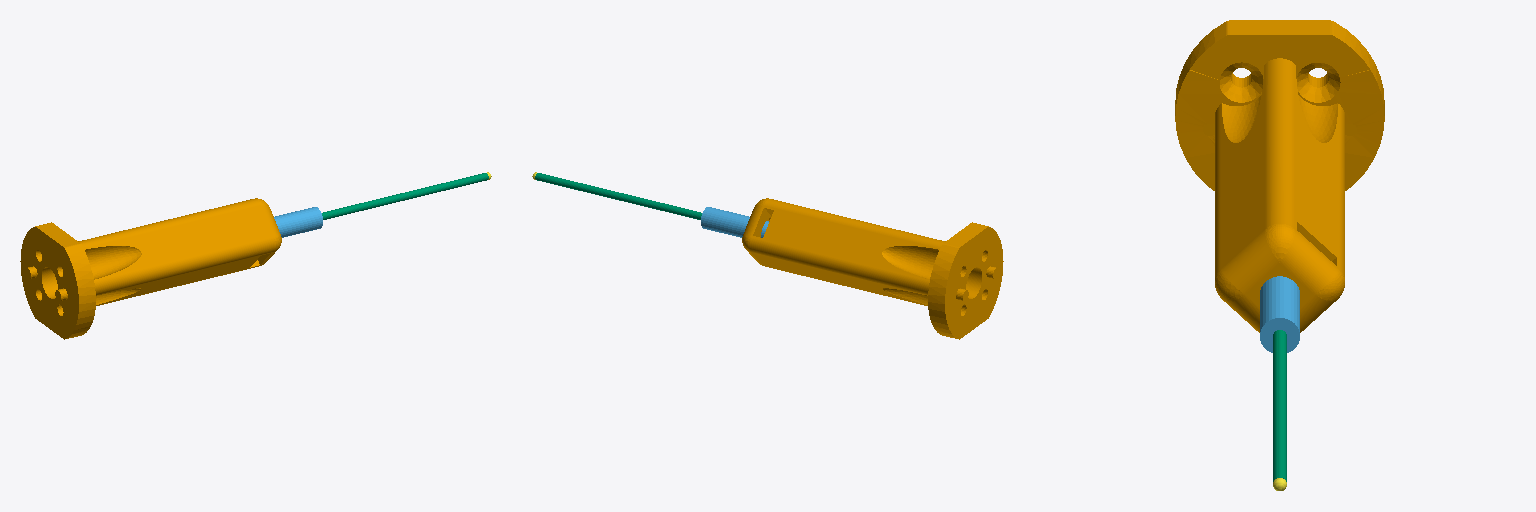
URDF robot description (meca500_needle_holder):
<?xml version="1.0" ?>
<!-- =================================================================================== -->
<!-- |    This document was autogenerated by xacro from meca_holder.urdf.xacro         | -->
<!-- |    EDITING THIS FILE BY HAND IS NOT RECOMMENDED                                 | -->
<!-- =================================================================================== -->
<robot name="meca500_needle_holder">
  <!-- Base Link: Needle Holder -->
  <link name="needle_holder">
    <visual>
      <origin rpy="0 0 0" xyz="0 0 0"/>
      <geometry>
        <mesh filename="package://mecademic_description/meshes/meca500_needle_holder_001_scaled.dae"/>
      </geometry>
    </visual>
    <collision>
      <origin rpy="0 0 0" xyz="0 0 0"/>
      <geometry>
        <mesh filename="package://mecademic_description/meshes/meca500_needle_holder_001_scaled.stl"/>
      </geometry>
    </collision>
  </link>
  <!-- Child Link: Needle Holder Pin 
    <link name="needle_holder_pin">
        <visual>
            <origin rpy="0 0 0" xyz="0 0 0"/>
            <geometry>
                <mesh filename="package://mecademic_description/meshes/meca500_needle_holder_pin_001_scaled.dae"/>
            </geometry>
        </visual>
        <collision>
            <origin rpy="0 0 0" xyz="0 0 0"/>
            <geometry>
                <mesh filename="package://mecademic_description/meshes/meca500_needle_holder_pin_001_scaled.stl" />
            </geometry>
        </collision>
    </link>

    Joint: Connecting the Needle Holder to the Pin
    <joint name="holder_to_pin" type="fixed">
        <parent link="needle_holder"/>
        <child link="needle_holder_pin"/>
        <origin xyz="0 0 0" rpy="0 0 0"/>
    </joint> -->
  <!-- Joint: Connecting the Needle to the Needle Holder Pin -->
  <joint name="holder_to_base" type="fixed">
    <parent link="needle_holder"/>
    <child link="needle_base"/>
    <origin rpy="0 0 0" xyz="-0.005 0 0"/>
  </joint>
  <!-- New Link: Base Needle -->
  <link name="needle_base">
    <visual>
      <origin rpy="0 0 0" xyz="0 0 0"/>
      <geometry>
        <mesh filename="package://mecademic_description/meshes/needle_base.dae"/>
      </geometry>
    </visual>
    <collision>
      <origin rpy="0 0 0" xyz="0 0 0"/>
      <geometry>
        <mesh filename="package://mecademic_description/meshes/needle_base.stl"/>
      </geometry>
    </collision>
  </link>
  <!-- Joint: Connecting the Needle to the Needle Holder Pin -->
  <joint name="base_to_needle" type="fixed">
    <parent link="needle_base"/>
    <child link="needle"/>
    <origin rpy="0 0 0" xyz="0 0 0"/>
  </joint>
  <!-- New Link: Needle -->
  <link name="needle">
    <visual>
      <origin rpy="0 0 0" xyz="0 0 0"/>
      <geometry>
        <mesh filename="package://mecademic_description/meshes/needle.dae"/>
      </geometry>
    </visual>
    <collision>
      <origin rpy="0 0 0" xyz="0 0 0"/>
      <geometry>
        <mesh filename="package://mecademic_description/meshes/needle.stl"/>
      </geometry>
    </collision>
  </link>
  <!-- Joint: Connecting the Needle to the Needle Tip -->
  <joint name="needle_to_tip" type="fixed">
    <parent link="needle"/>
    <child link="needle_tip"/>
    <origin rpy="0 0 0" xyz="0.132 0 0"/>
  </joint>
  <link name="needle_tip">
    <visual>
      <origin rpy="0 0 0" xyz="0 0 0"/>
      <geometry>
        <sphere radius=".001"/>
      </geometry>
    </visual>
    <collision>
      <origin rpy="0 0 0" xyz="0 0 0"/>
      <geometry>
        <sphere radius=".001"/>
      </geometry>
    </collision>
  </link>
  <!-- New Link: Sphere (Needle Tip)
    <link name="needle_tip_tcp"/>
     <joint name="needle_tip_tcp_joint" type="fixed">
        <parent link="needle_tip"/>
        <child link="needle_tip_tcp"/>
        <origin xyz=".132 0 0" rpy="0 0 0"/>
    </joint> -->
</robot>

--- Render facts (derived) ---
The picture shows the robot from 3 angles, left to right: view 1: azimuth 30°, elevation 25°; view 2: azimuth 150°, elevation 25°; view 3: azimuth 270°, elevation 25°; orthographic projection.
Robot: meca500_needle_holder — 4 links, 3 joints (3 fixed); root link needle_holder; default pose: every joint at zero.
Visible links, largest first — view 1: needle_holder, needle, needle_base; view 2: needle_holder, needle, needle_base; view 3: needle_holder, needle_base, needle.
Link boxes in pixels (x1=…): needle_holder: x1=20, y1=198, x2=281, y2=339; needle: x1=322, y1=173, x2=488, y2=219; needle_base: x1=274, y1=207, x2=322, y2=237; needle_holder: x1=742, y1=198, x2=1003, y2=339; needle: x1=535, y1=173, x2=701, y2=219; needle_base: x1=701, y1=207, x2=768, y2=237; needle_holder: x1=1175, y1=20, x2=1384, y2=332; needle_base: x1=1260, y1=276, x2=1299, y2=352; needle: x1=1273, y1=330, x2=1286, y2=481.
Bounding box of the posed robot: 0.1324 × 0.03 × 0.026 m (x, y, z).
3 mesh visuals loaded from 3 distinct referenced files (3 Collada DAE).
